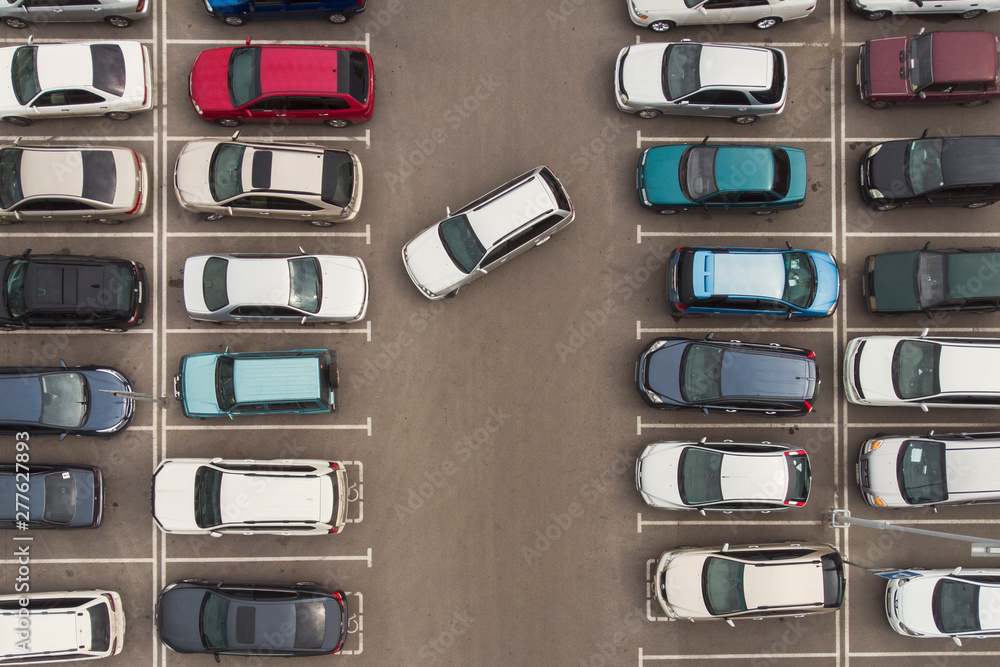bos: (162, 422, 367, 561), (637, 522, 839, 657), (161, 557, 377, 662), (159, 40, 374, 142), (161, 137, 372, 240), (636, 424, 840, 529), (1, 427, 159, 562), (161, 328, 369, 430), (160, 232, 369, 333), (844, 521, 1000, 656), (631, 42, 837, 144), (635, 329, 839, 429), (637, 138, 835, 237), (636, 234, 834, 333), (1, 561, 159, 667), (1, 37, 158, 143), (841, 232, 1000, 336), (841, 40, 1000, 144), (845, 424, 1000, 528), (843, 327, 1000, 429), (1, 137, 157, 239), (1, 234, 158, 335), (843, 139, 1000, 240), (1, 331, 158, 431)
